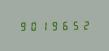five: (67, 19, 76, 30)
nine: (17, 20, 26, 31), (47, 20, 56, 30)
one: (37, 20, 46, 31)
six: (57, 19, 66, 30)
two: (77, 19, 86, 30)
zero: (27, 20, 36, 31)
